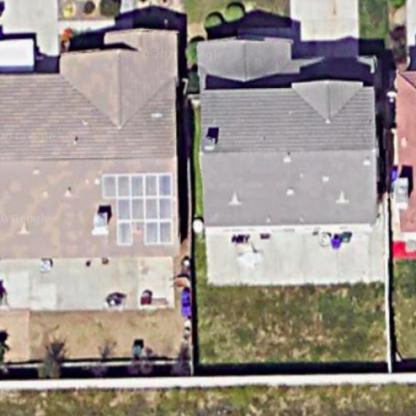solar_panel: (97, 167, 181, 252)
